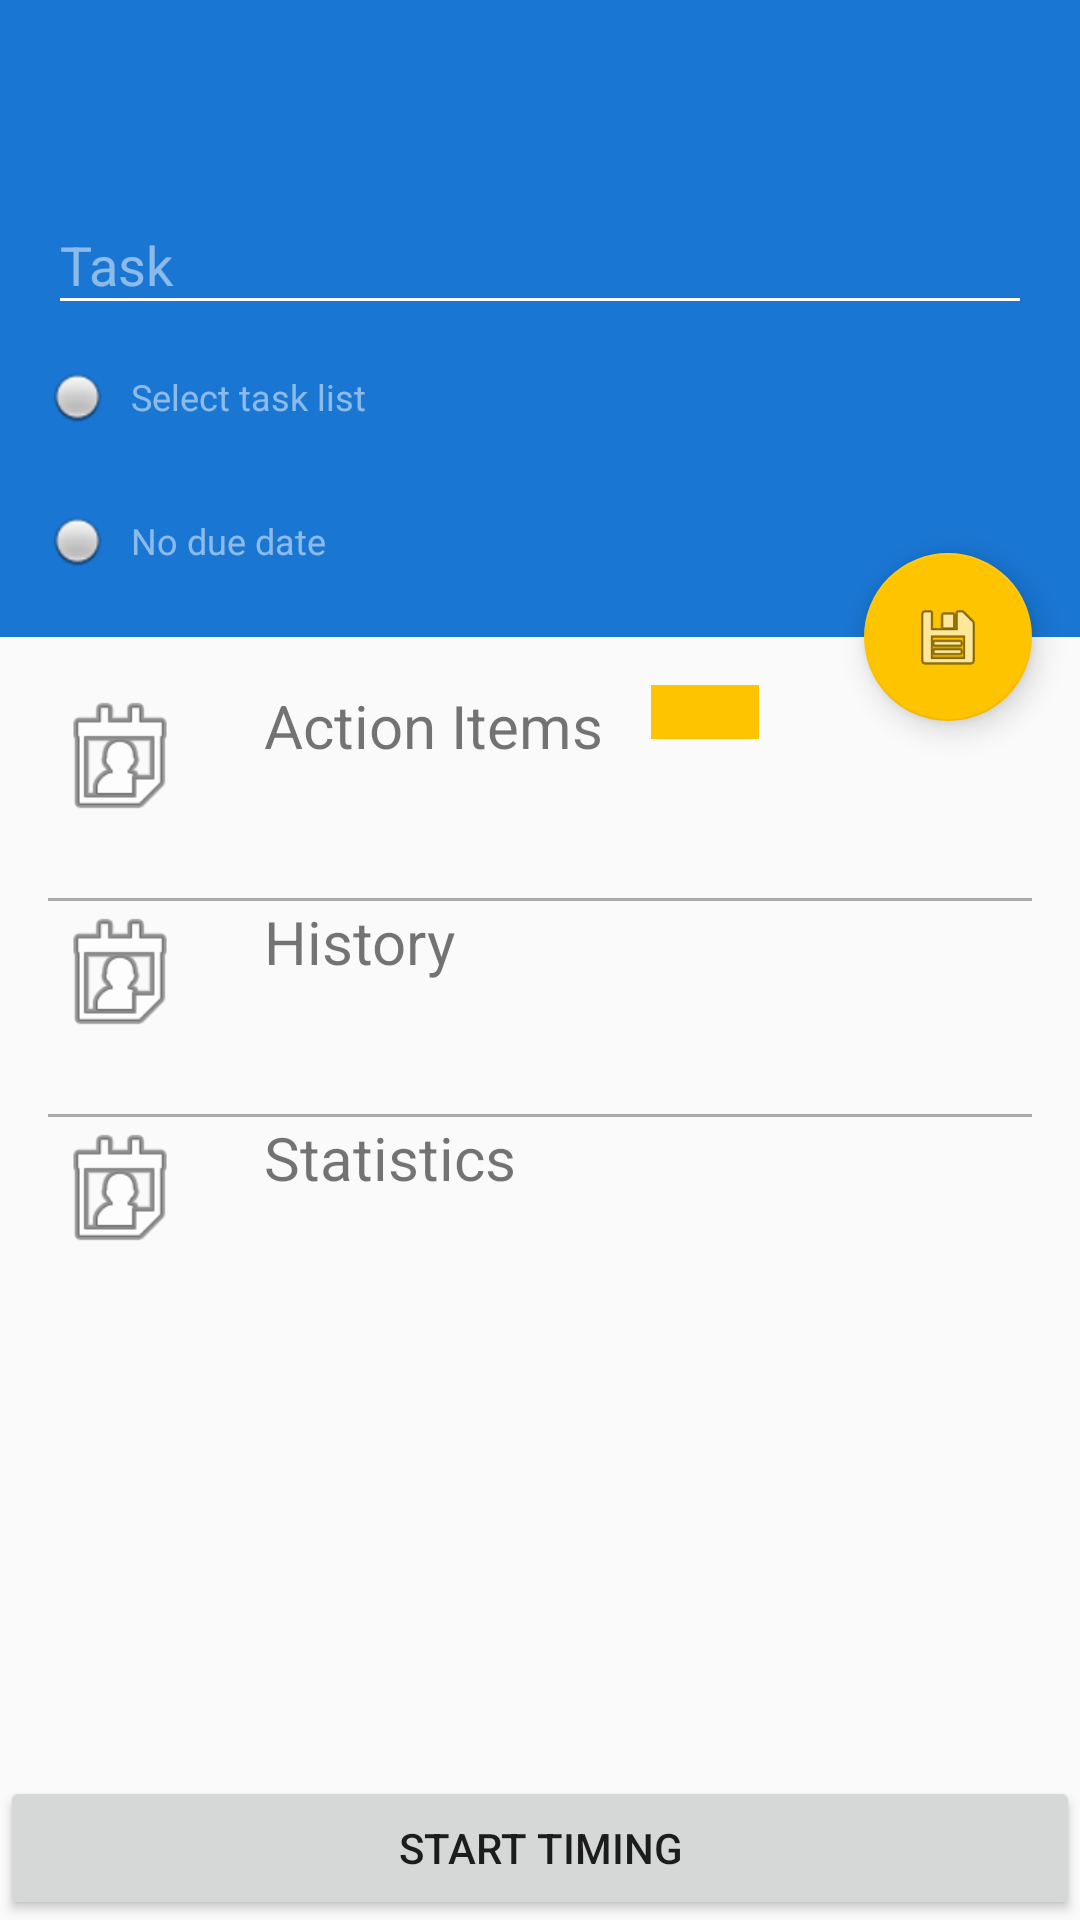

Named icons in this screenshot (1080 × 1920) and their centers, point (x, y):
calendar: point (120, 755), point (120, 971), point (120, 1187)
save: point (948, 637)
